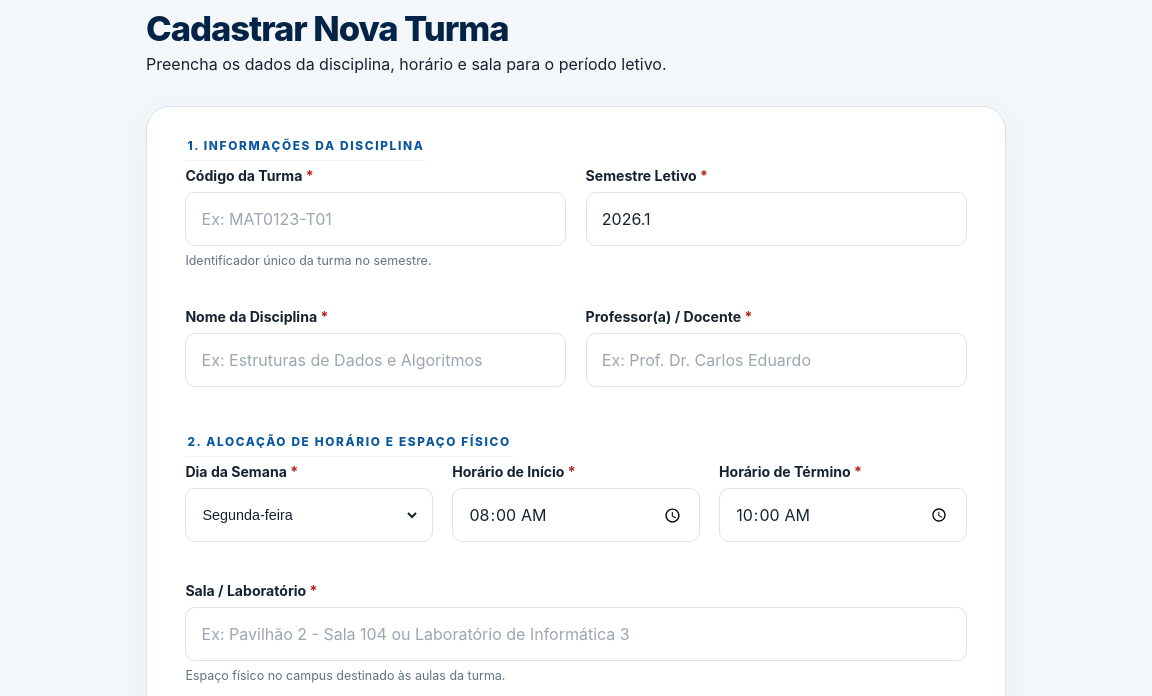
Test: Módulo de Turmas (CRUD) › Regra de Negócio: Tratamento de Conflito de Horário › exibe alerta visual quando o usuário aciona a simulação de conflito de horário no modo de teste
The width and height of the screenshot is (1152, 696).
In the field labelled "Código da Turma *": (376, 219) [202,194,550,244], type "MAT0999-T01"
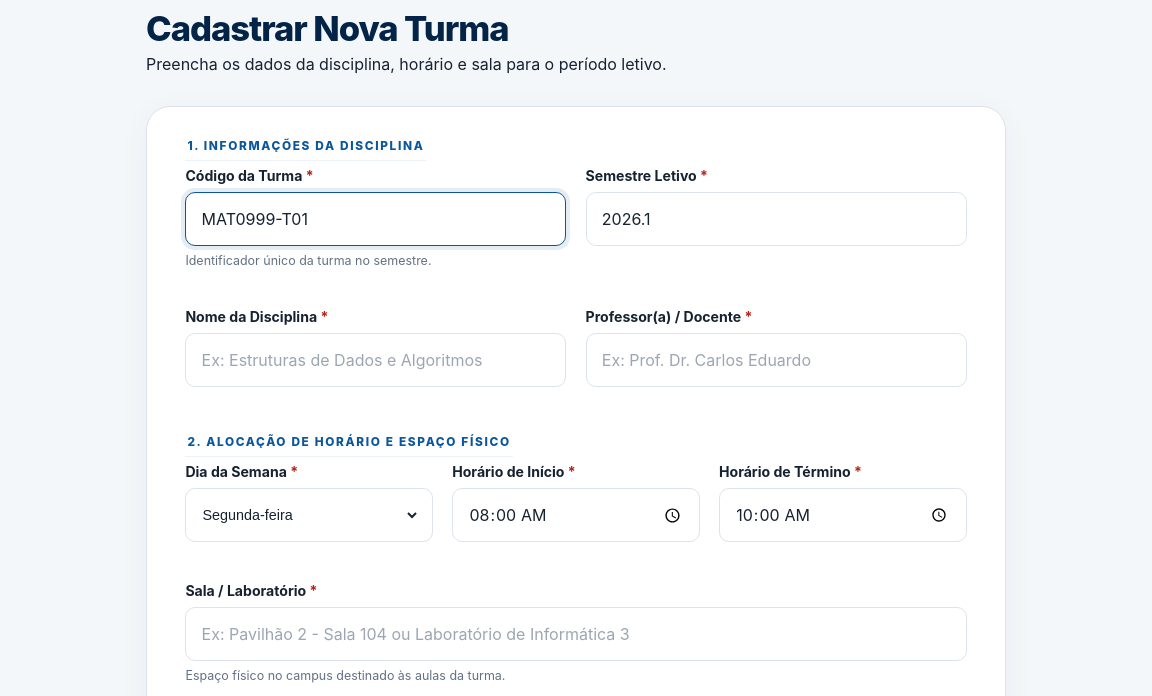
In the field labelled "Nome da Disciplina *": (376, 360) [202,335,550,385], type "Geometria Analítica"
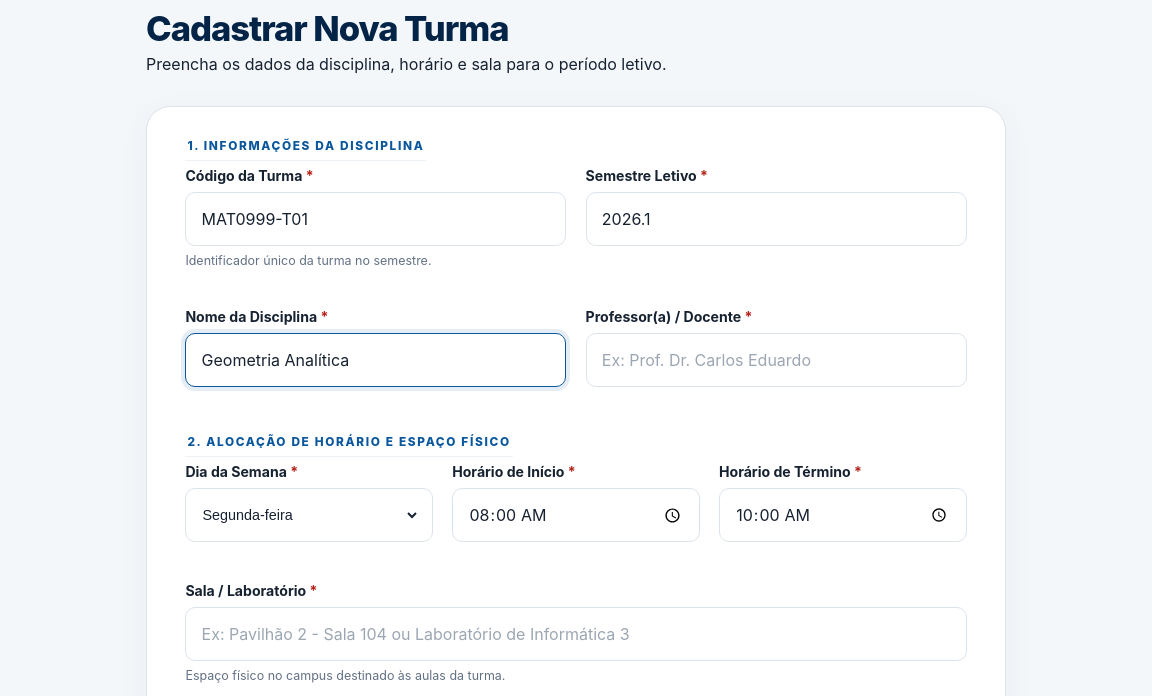
In the field labelled "Professor(a) / Docente *": (776, 360) [602,335,950,385], type "Profa. Dra. Elena"
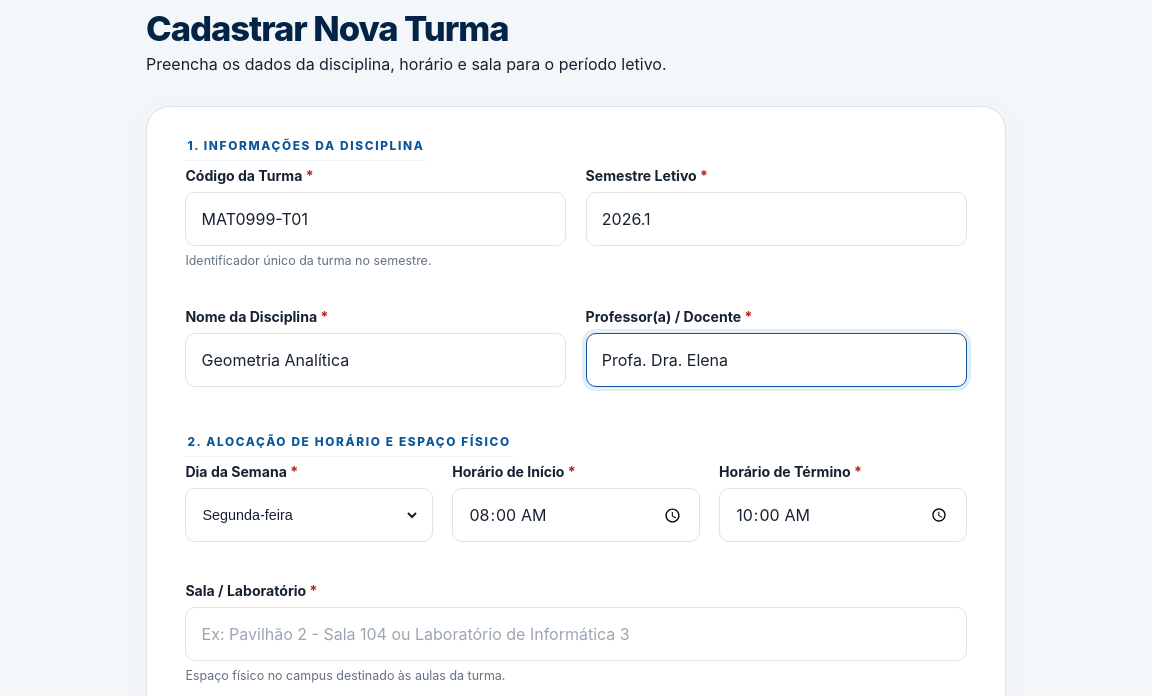
In the field labelled "Sala / Laboratório *": (576, 634) [202,609,950,659], type "Sala 101"
(page scrolled)
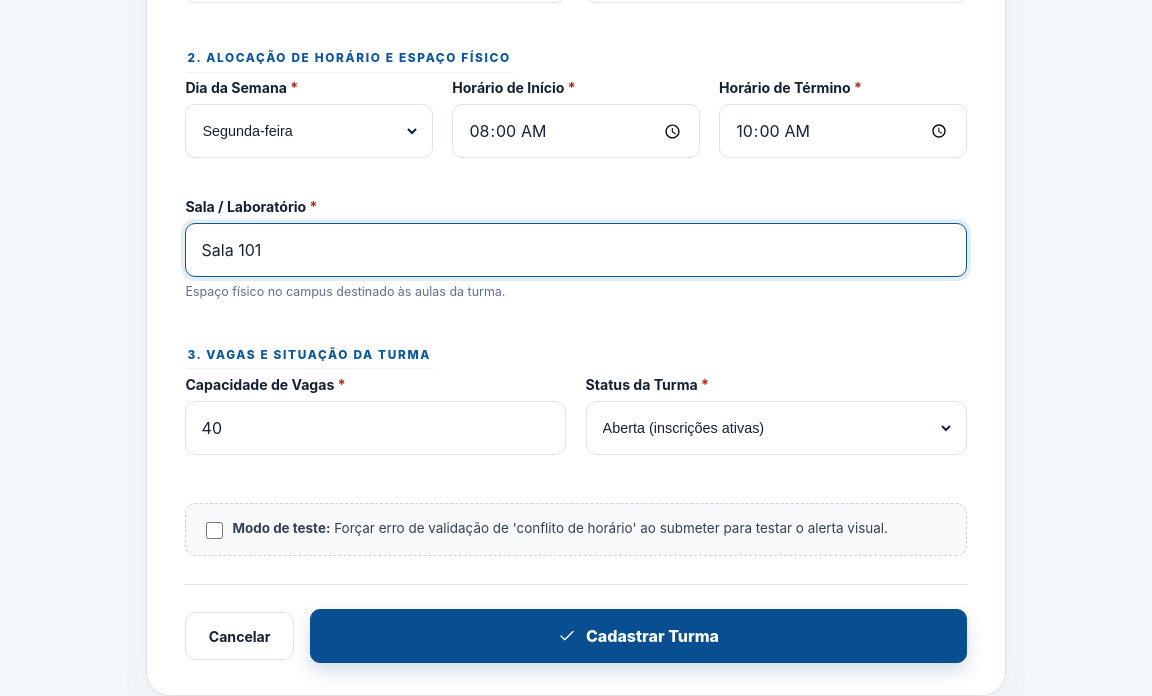
// Ativa o checkbox de teste de conflito de horário
Click the checkbox labelled "Forçar erro de validação de 'conflito de horário'": click(214, 530) [206,522,223,539]
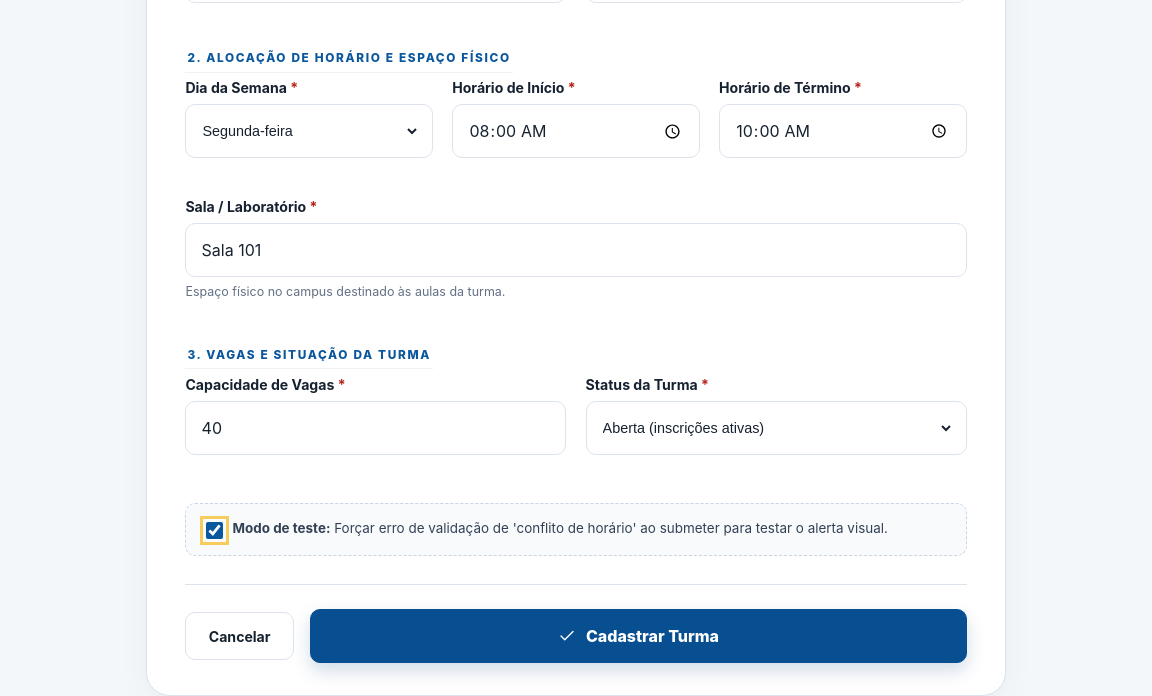
Click the button "Cadastrar Turma": click(638, 636) [310,609,967,663]
(page scrolled)
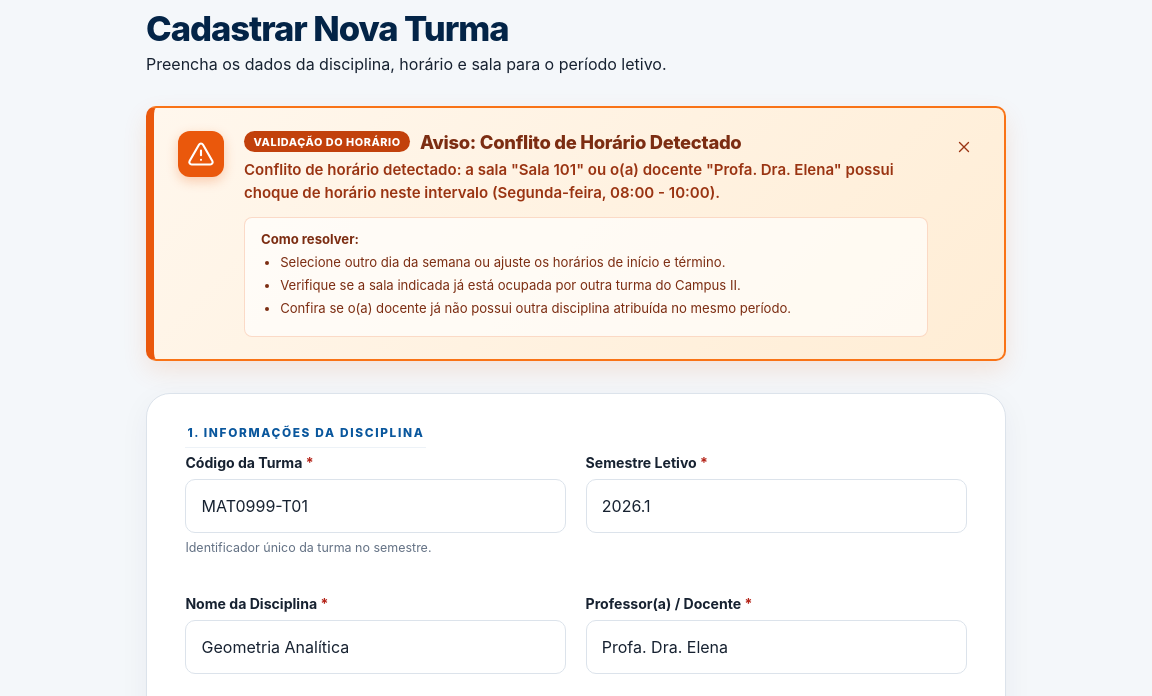
Result: the message with test id "conflict-schedule-alert" is shown at [146,106,1006,361]
Result: the heading "Aviso: Conflito de Horário Detectado" is shown at [420,131,742,153]
